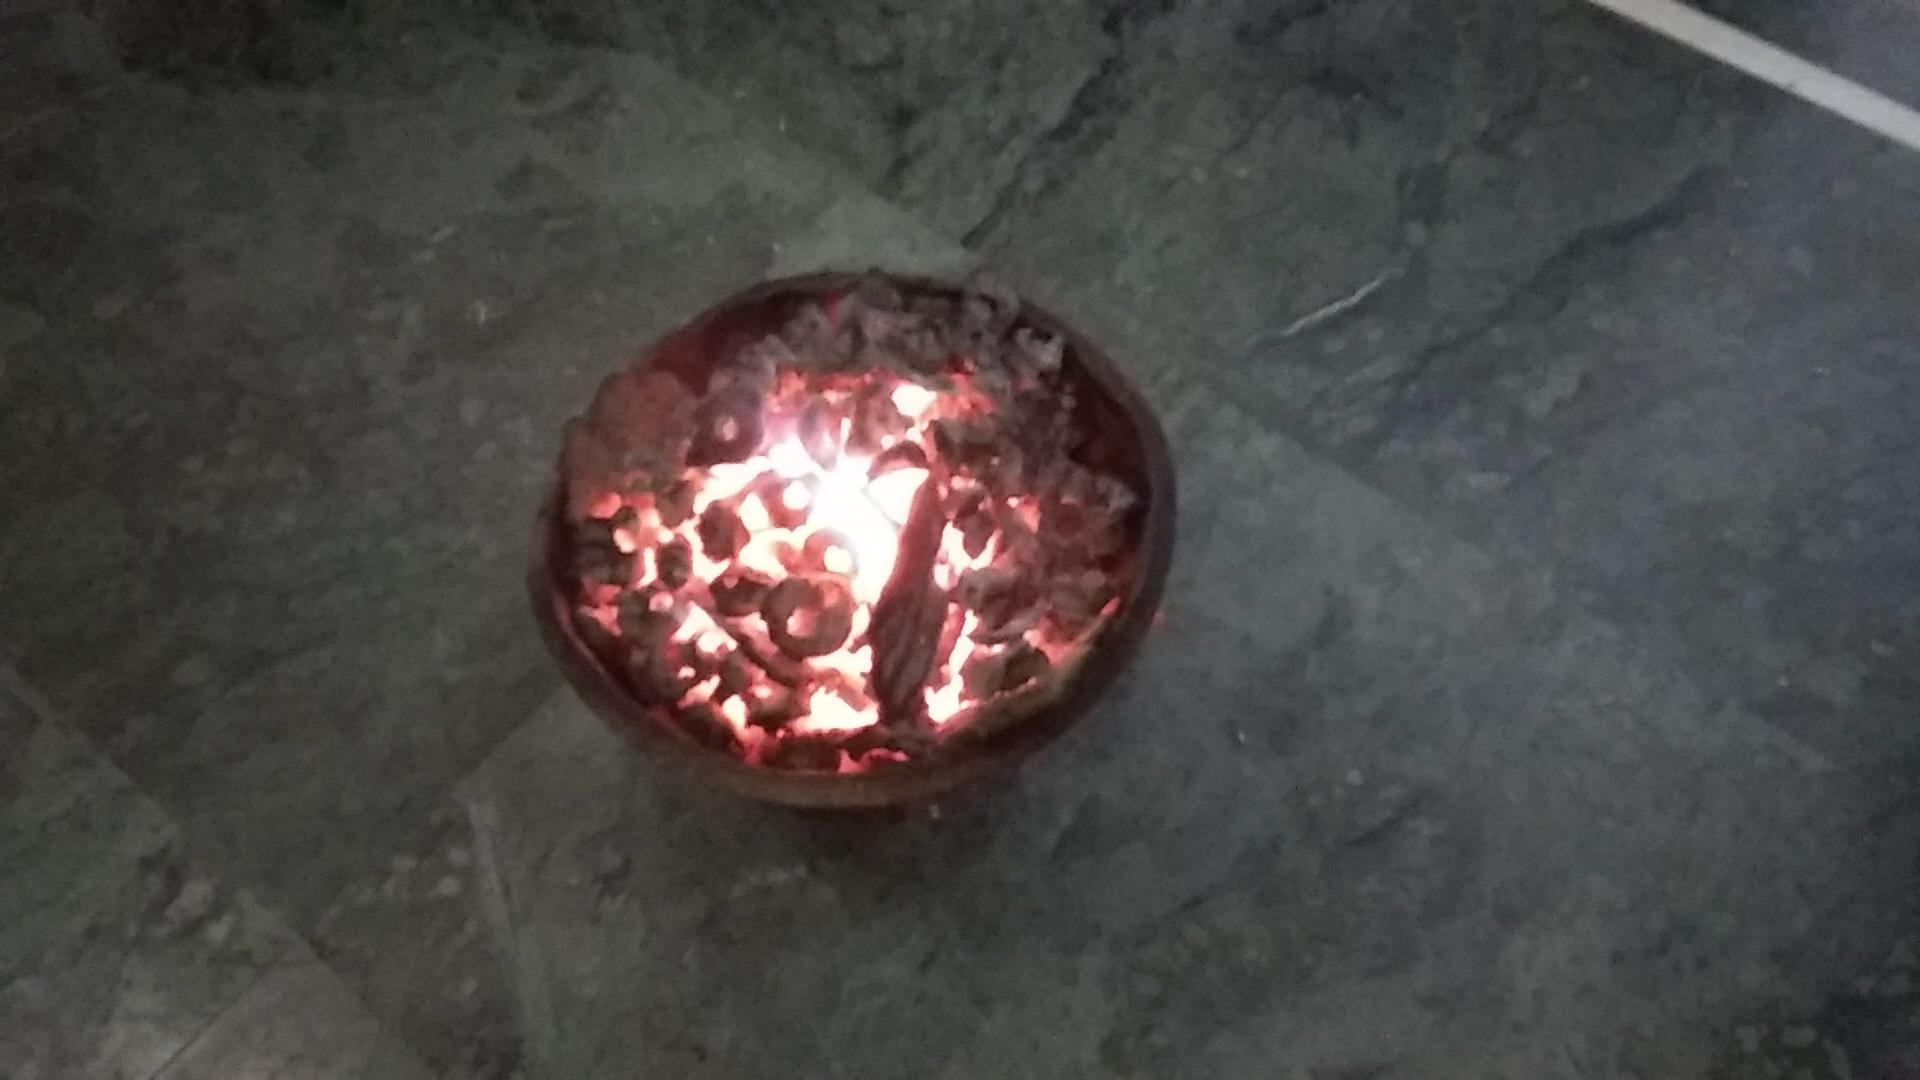fire: (647, 411, 1001, 684)
